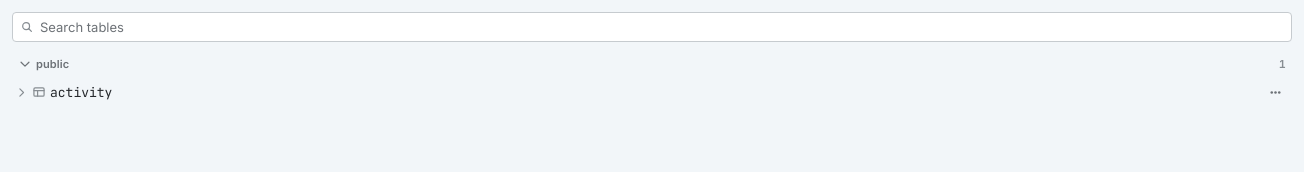
Test: TableList › shows a no-matches message when the filter matches nothing
The image size is (1304, 172).
In the search field with test id "tables.search": (652,27) [12,12,1292,42], type "zzz"
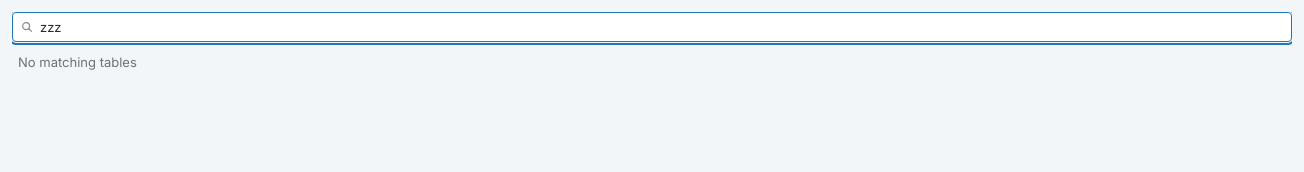
Check: the text "No matching tables" is shown, box [18,54,137,70]
